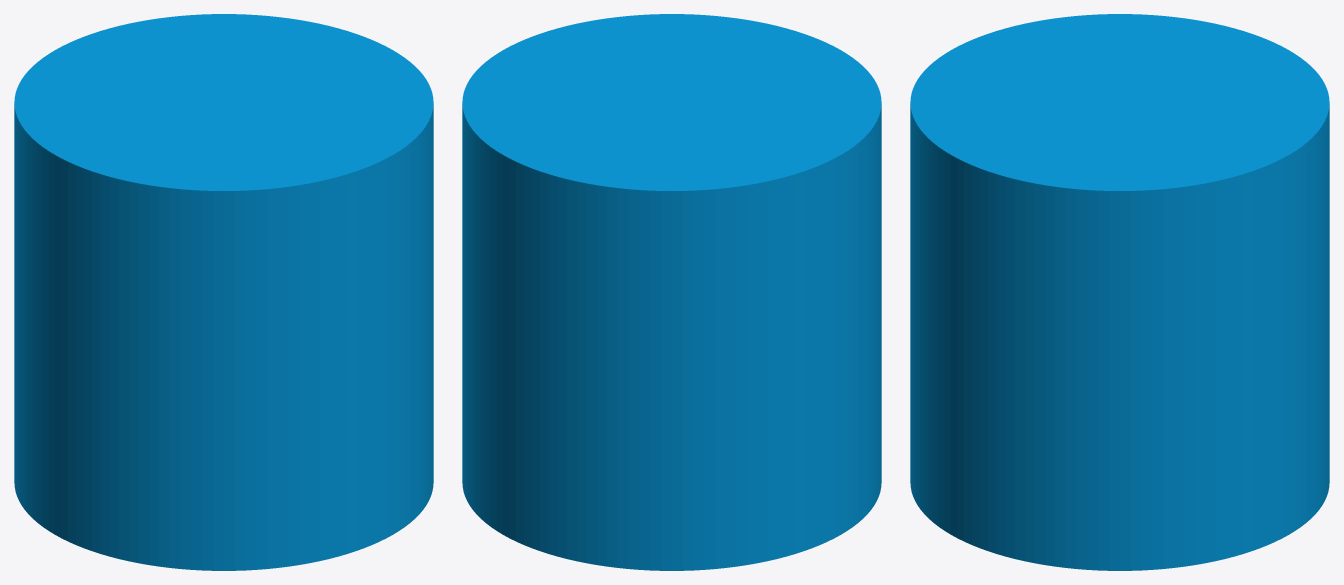
3 renders of one model, left to right at view 1: azimuth 30°, elevation 25°; view 2: azimuth 150°, elevation 25°; view 3: azimuth 270°, elevation 25°, orthographic.
Size of the model in its own units: 0.04 by 0.04 by 0.04.
